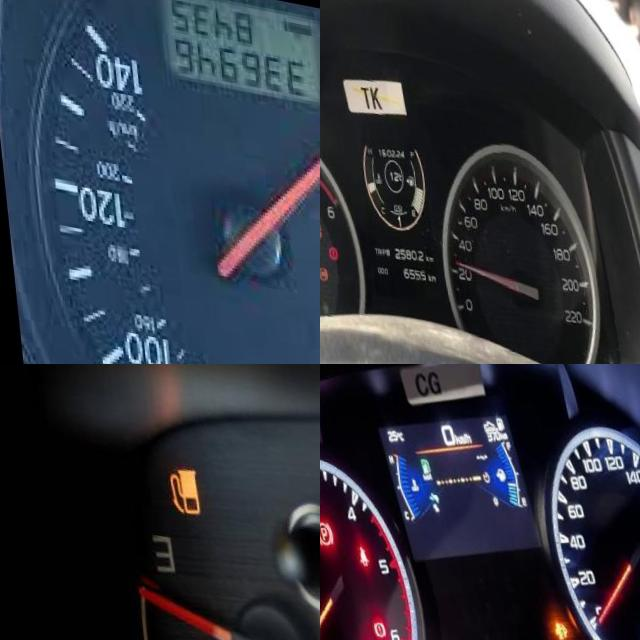Seat Belt: (349, 534, 363, 559)
